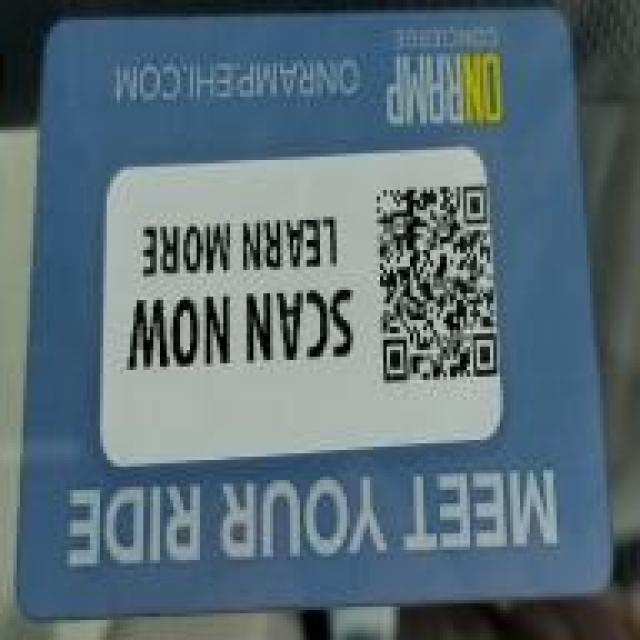QR_CODE: (365, 157, 503, 413)
